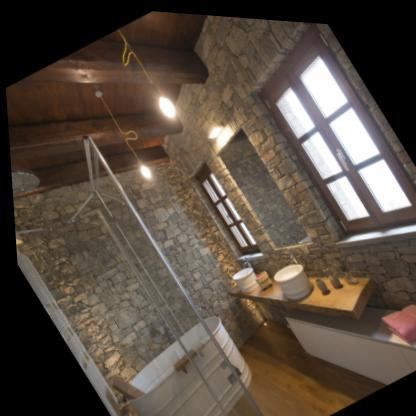Window: (255, 18, 416, 227), (190, 157, 262, 255)
